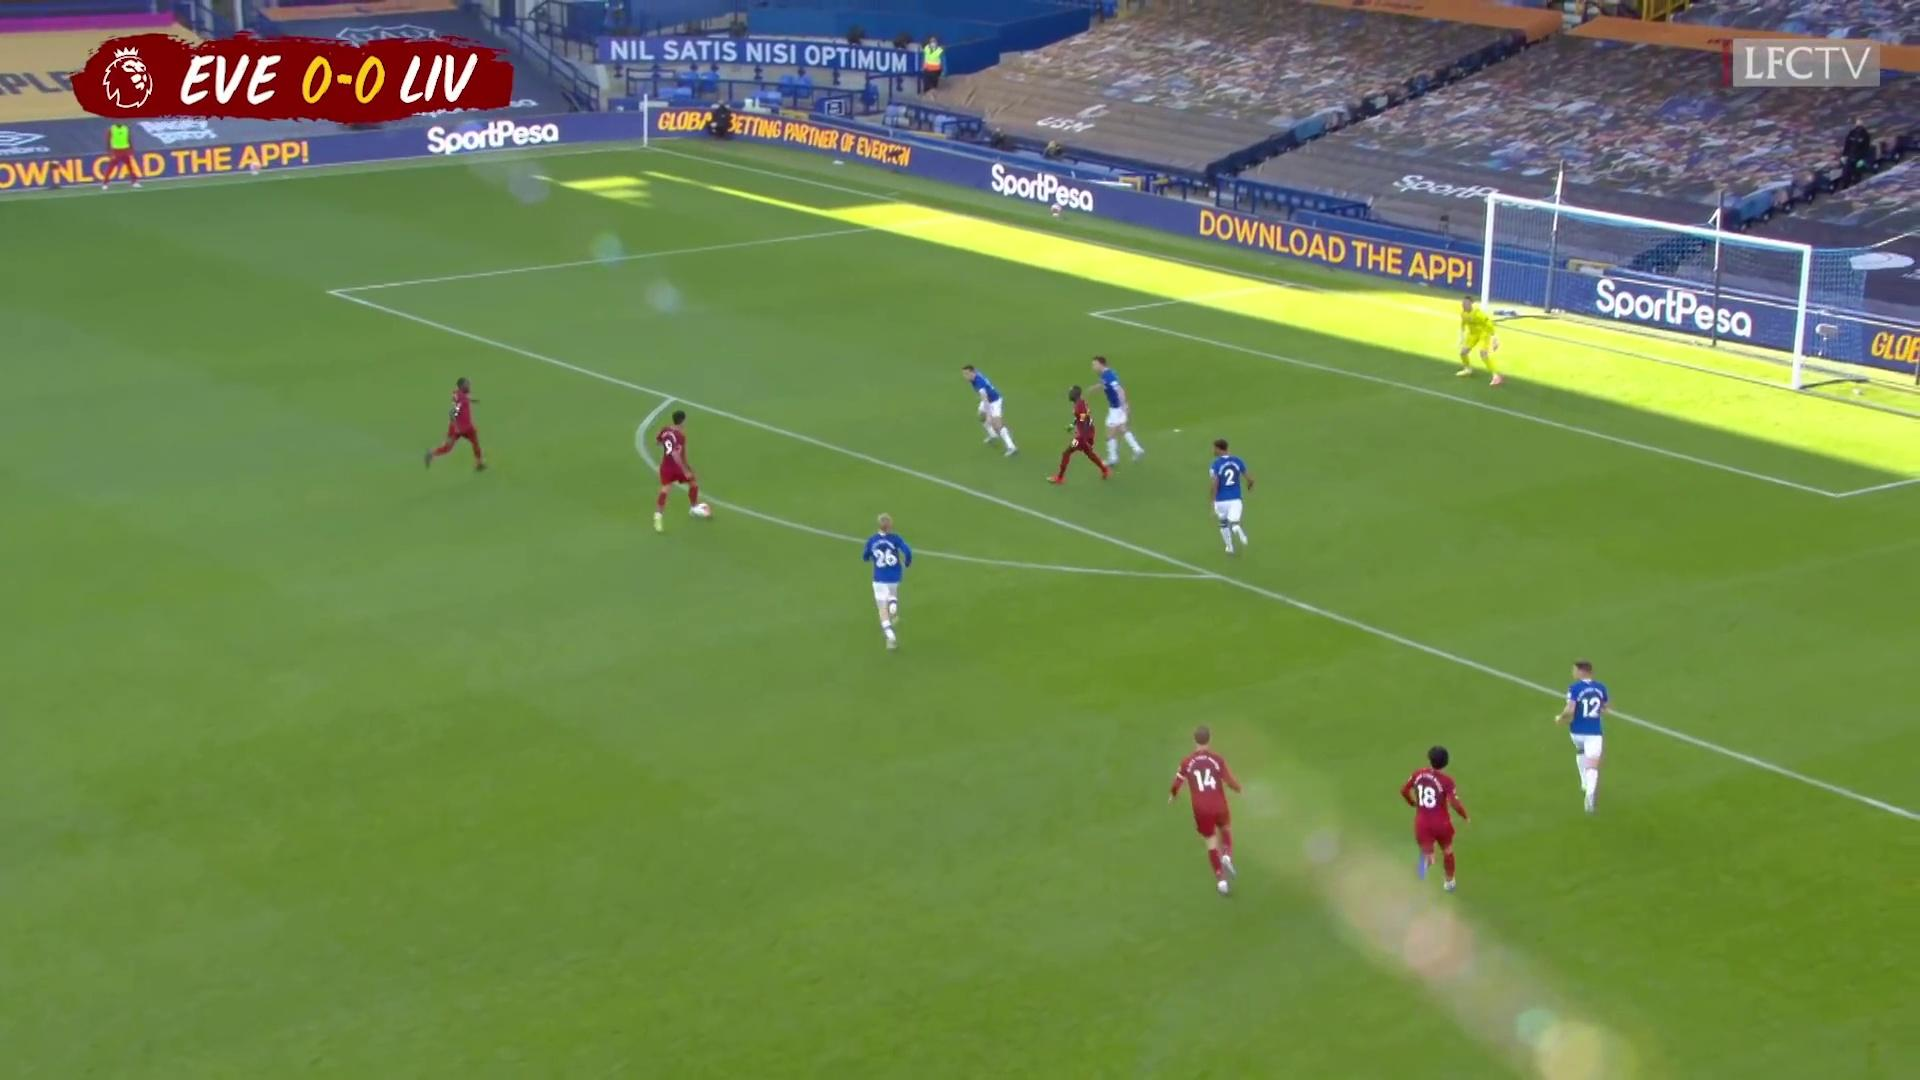ball: (693, 500, 712, 520)
goalkeeper: (1446, 295, 1506, 390)
player: (1165, 721, 1246, 902), (1550, 655, 1621, 820), (1399, 740, 1471, 896), (858, 511, 914, 653), (646, 406, 705, 534), (420, 373, 494, 475), (1092, 352, 1155, 468), (1044, 381, 1110, 486), (958, 358, 1023, 461), (1205, 435, 1259, 557)
